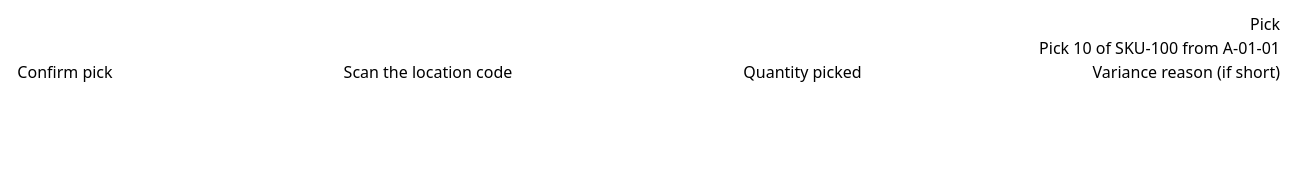
Scenario: A server refusal on a pick plays the error sound + vibration and states the next action › refusal lineAlreadyPicked -> alert pick.refused.lineAlreadyPicked, error signal once, no key, nothing enqueued
This screenshot has width=1292, height=172.
In the field labelled "Scan the location code": [628, 72] box [512,60,743,84], type "A-01-01"
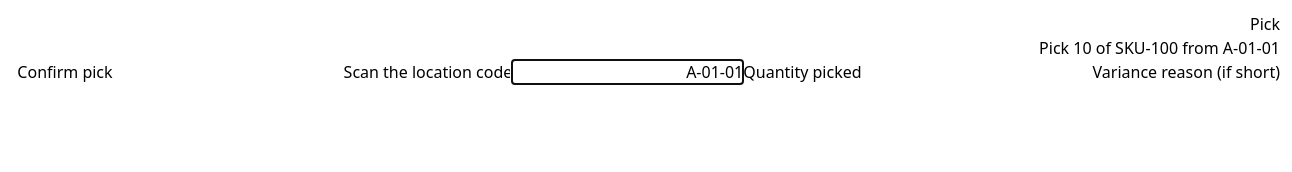
In the field labelled "Quantity picked": [977, 72] box [862,60,1093,84], type "10"
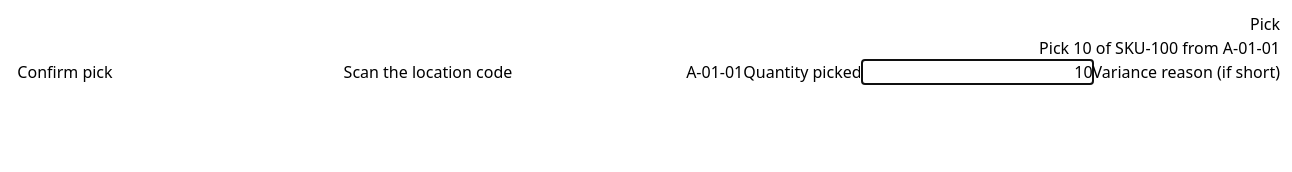
Click the button "Confirm pick": [65, 72] box [17,60,113,84]
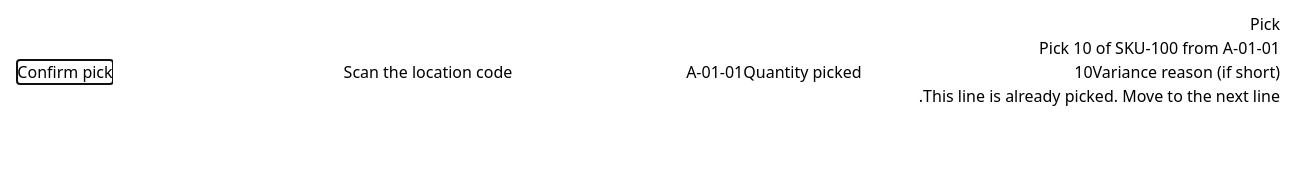
Check: the message reads "This line is already picked. Move to the next line.", box [919,85,1280,107]
